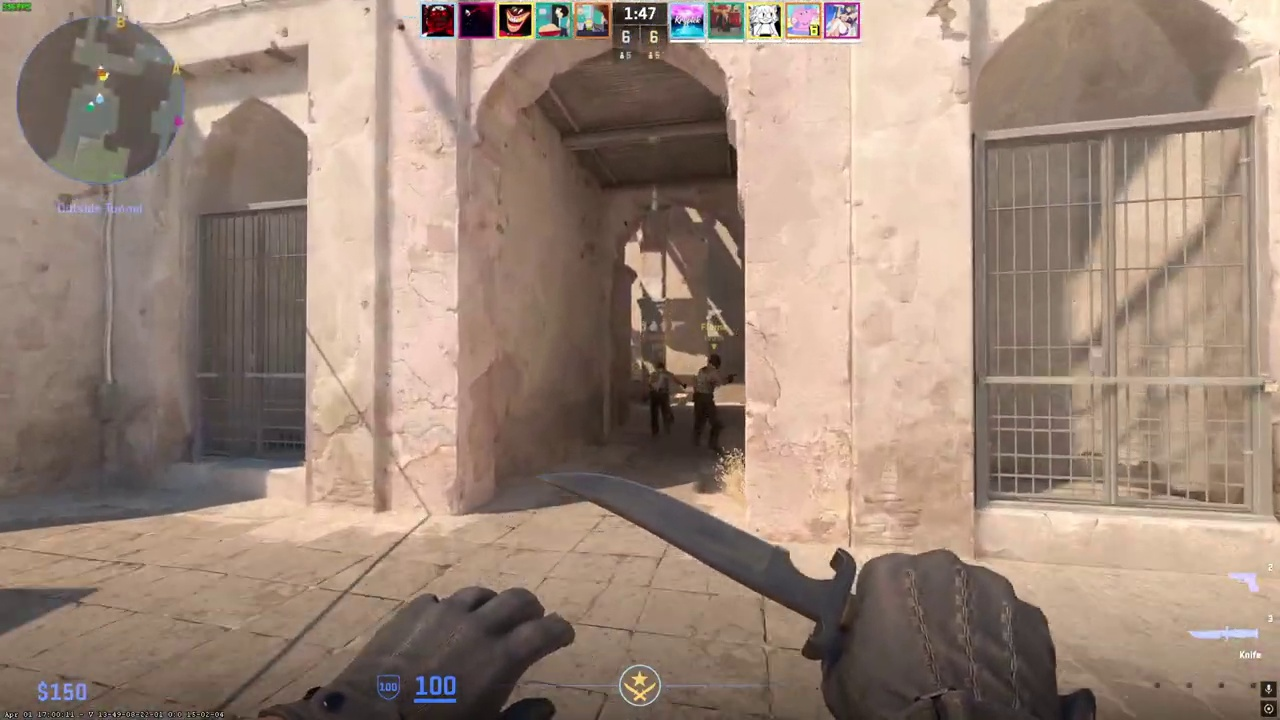Terrorist: (692, 354, 727, 452), (645, 363, 678, 438)
